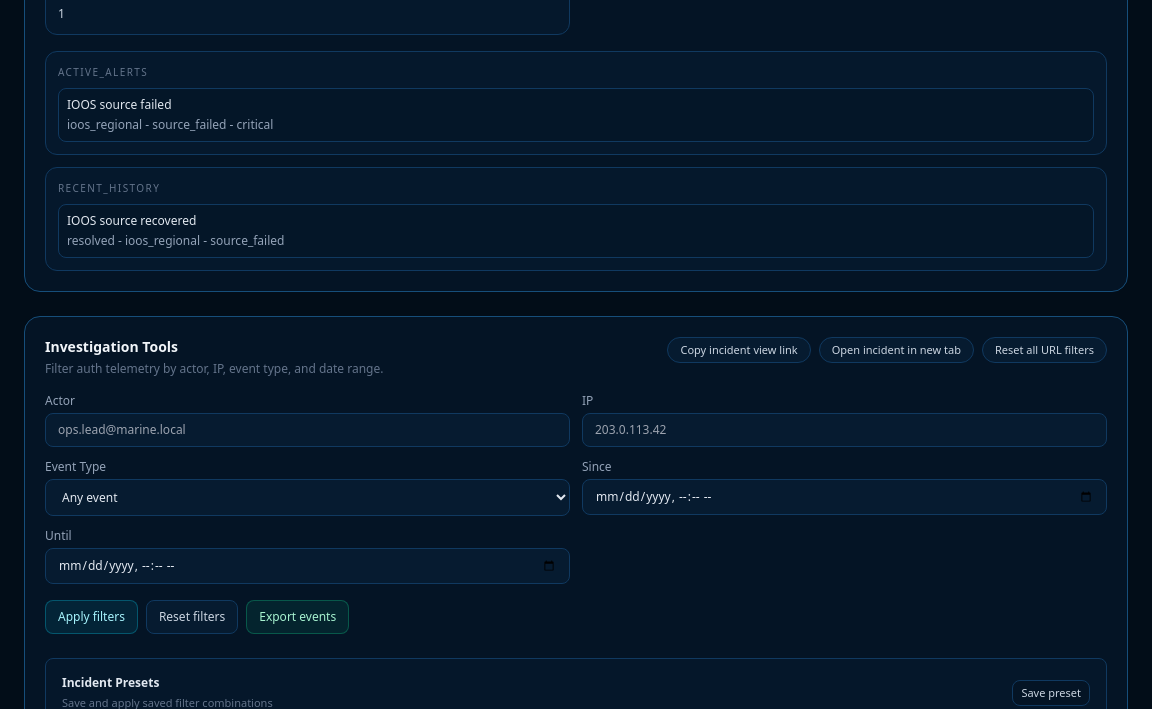
Test: security console shows safe copy failure feedback when clipboard write fails
This screenshot has width=1152, height=709.
(page scrolled)
Click the button "Copy incident view link" at (739, 350), box x1=668 y1=336 x2=811 y2=363
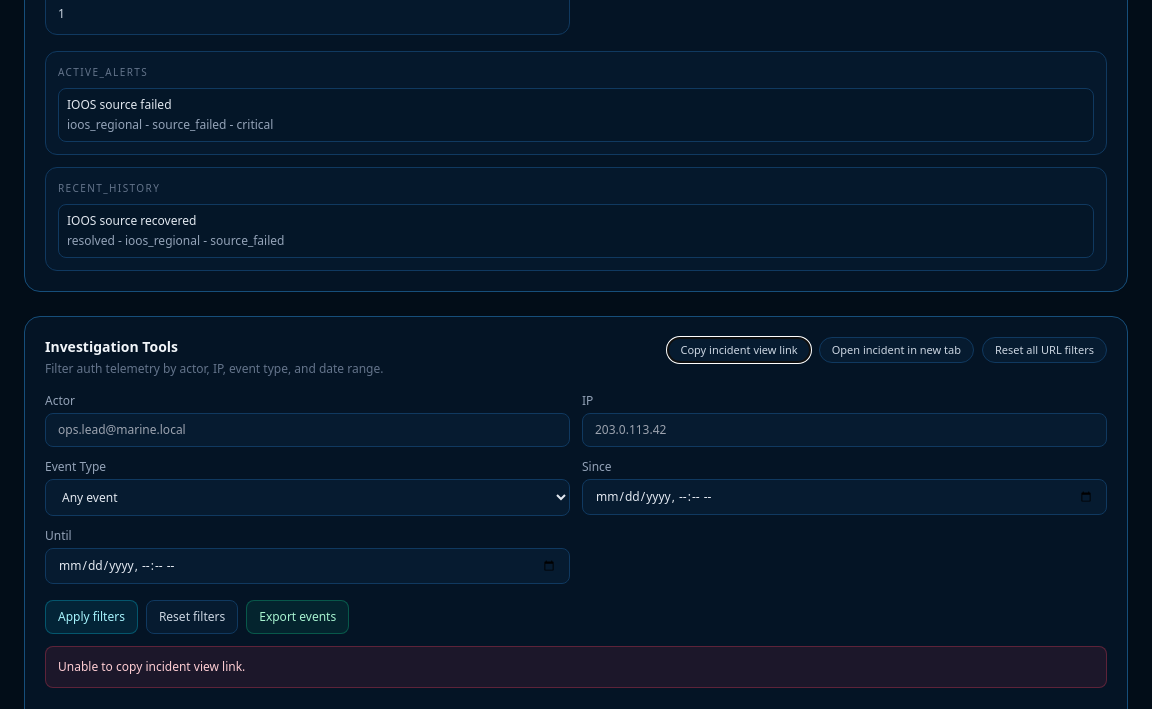
Result: the text "Unable to copy incident view link." is shown at x1=45 y1=646 x2=1107 y2=688
